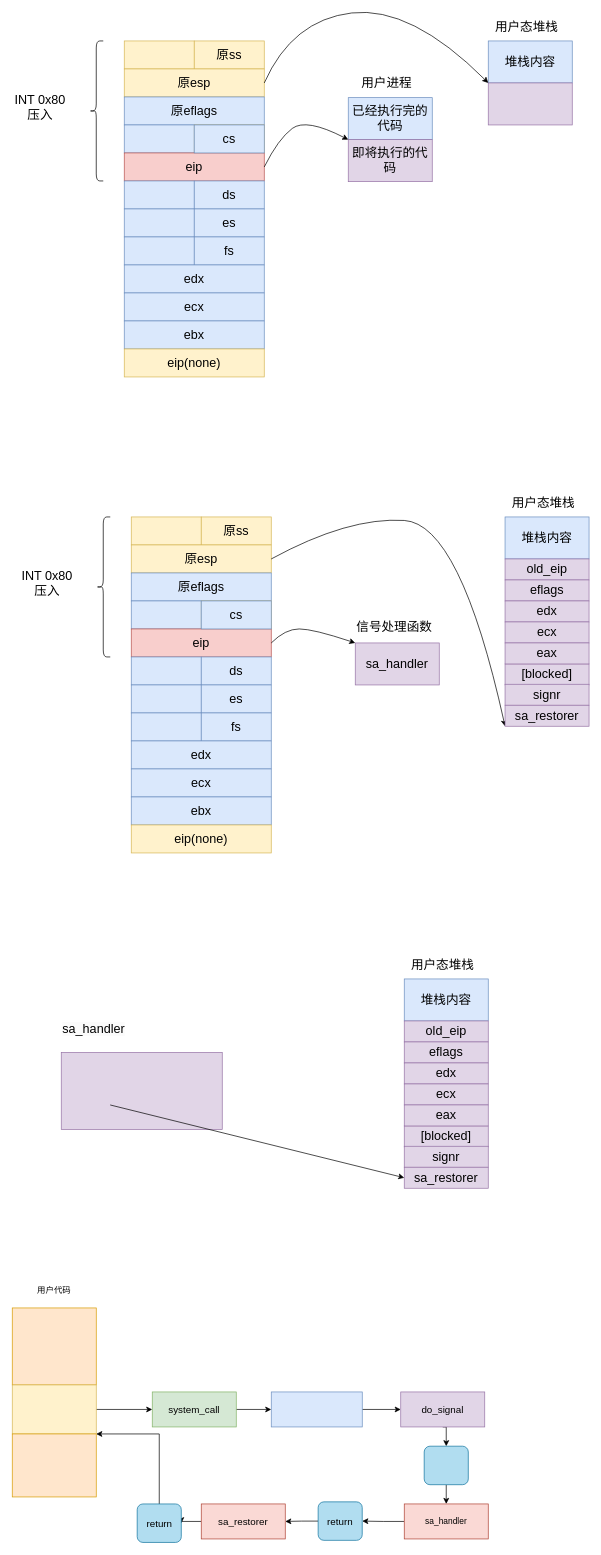
Image size: 601x1555. Some labels were removed from this diagram. The centre of each missing label's shape, as x and y in pixels:
"INT0x80" goes at (x=54, y=1409).
"iret" goes at (x=446, y=1465).
"ret_from_sys_call" goes at (x=316, y=1409).
"{ ..... return; }" goes at (x=141, y=1090).
